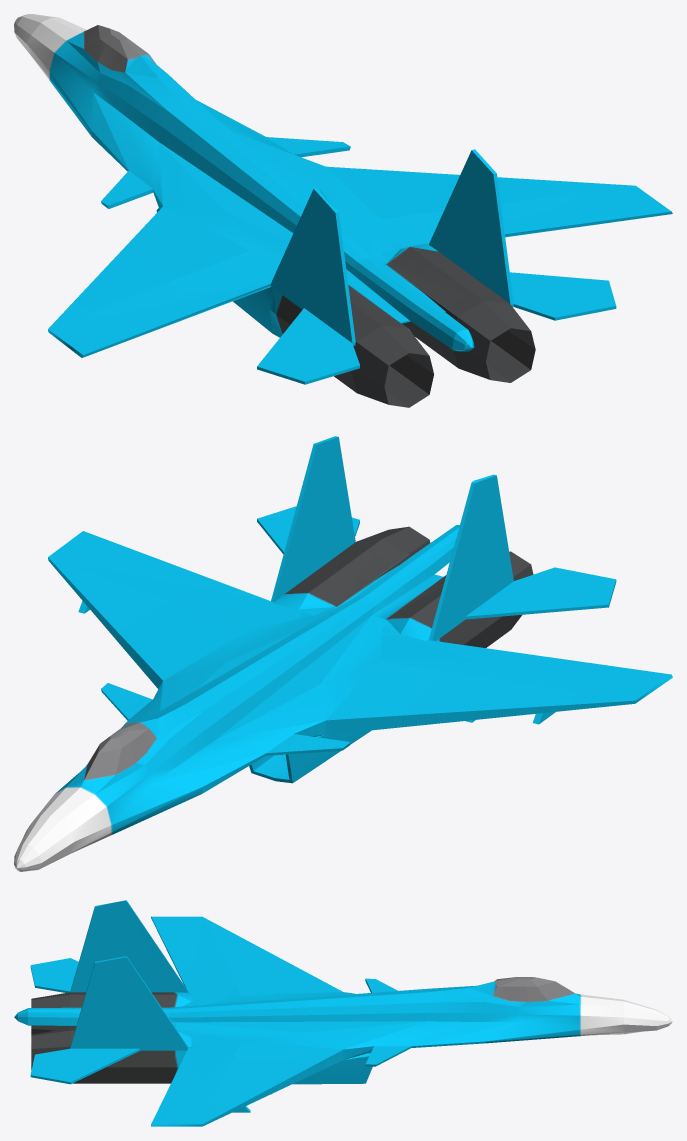
3 renders of one model, top to bottom at view 1: azimuth 30°, elevation 25°; view 2: azimuth 150°, elevation 25°; view 3: azimuth 270°, elevation 25°, orthographic. The views are drawn at different scales.
Visible parts, largest first — view 1: Jet_05_Body; view 2: Jet_05_Body; view 3: Jet_05_Body.
Part boxes in pixels (bbox=[...]): Jet_05_Body: bbox=[14, 14, 672, 407]; Jet_05_Body: bbox=[14, 436, 672, 871]; Jet_05_Body: bbox=[14, 900, 672, 1126].
Size of the model in its own units: 1.05 by 0.3164 by 1.4.
Materials: 1 (1 with a texture image).
